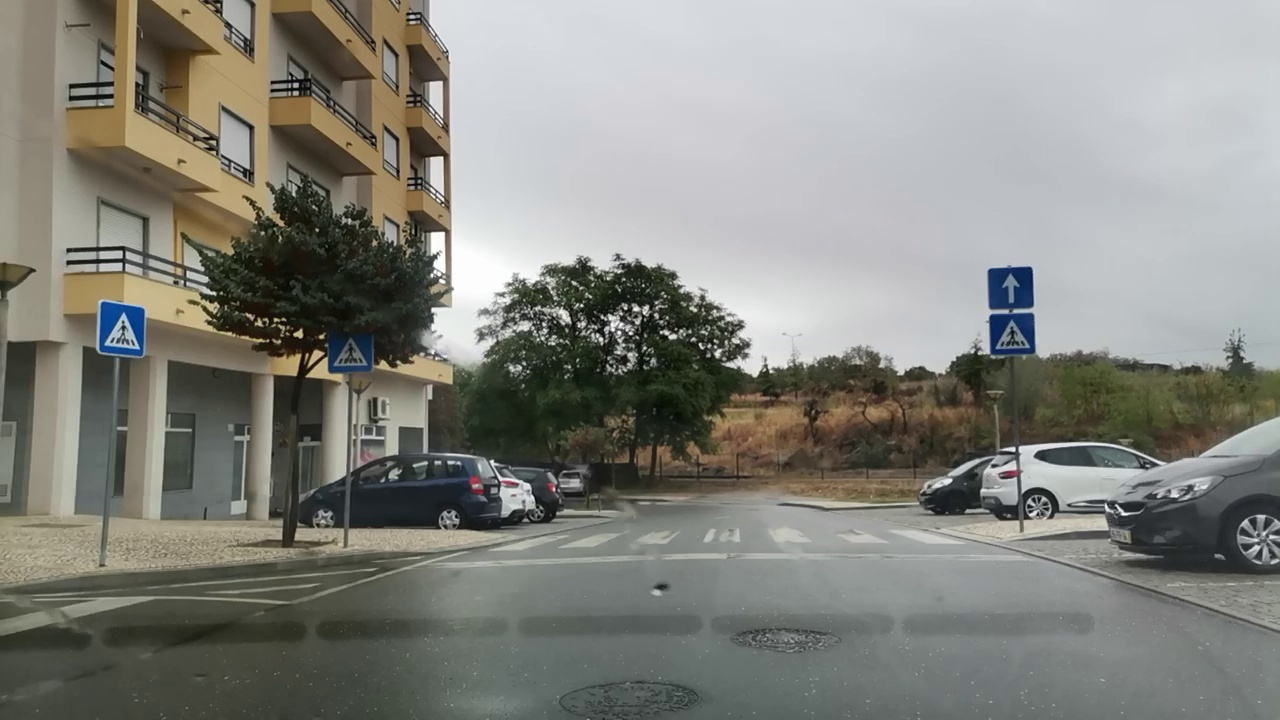Stairs: (491, 525, 971, 549)
